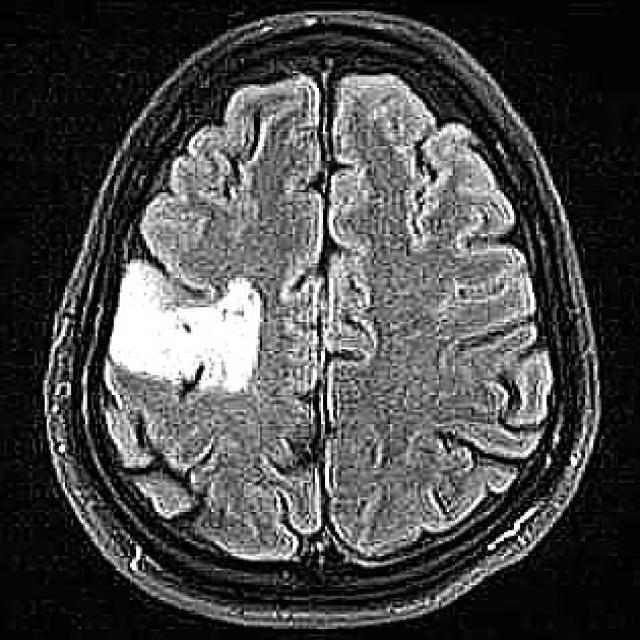brain tumor: (108, 261, 260, 393)
